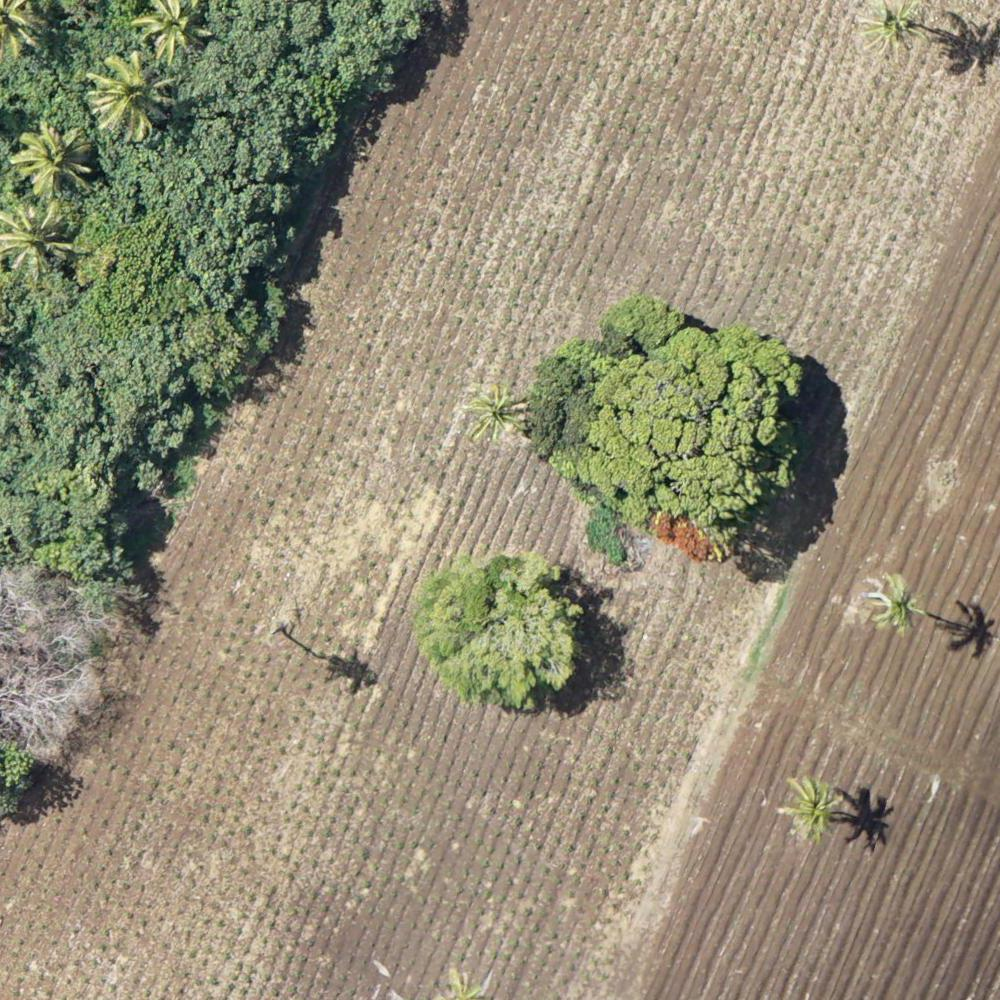Palm: (86, 57, 172, 144), (11, 121, 95, 198), (2, 201, 75, 280), (124, 1, 211, 61), (861, 2, 931, 56), (464, 381, 522, 440), (786, 776, 837, 841), (870, 575, 923, 635)
